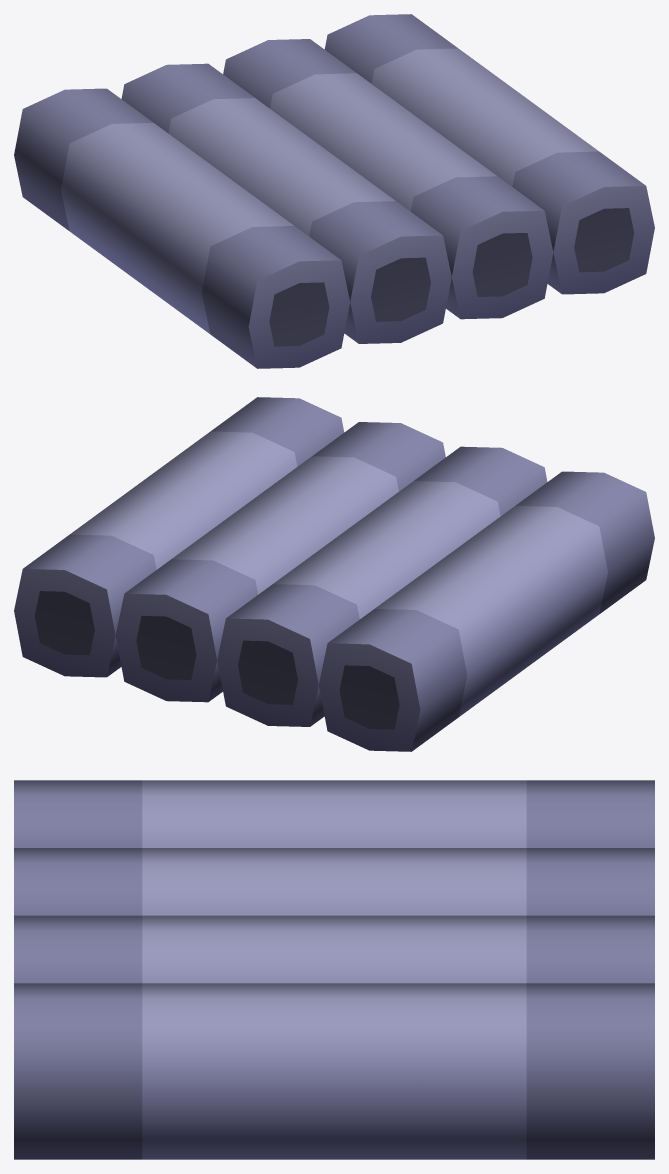
The model's file is conveyor-bars-stripe.fbx.
3 views of the same model, one above another, from view 1: azimuth 30°, elevation 25°; view 2: azimuth 150°, elevation 25°; view 3: azimuth 270°, elevation 25° (orthographic). The views are drawn at different scales.
Parts seen in each view (by area): view 1: conveyor-bars-stripe; view 2: conveyor-bars-stripe; view 3: conveyor-bars-stripe.
Part boxes in pixels (x1=…): conveyor-bars-stripe: x1=14, y1=14, x2=654, y2=368; conveyor-bars-stripe: x1=14, y1=397, x2=654, y2=751; conveyor-bars-stripe: x1=14, y1=780, x2=654, y2=1159.
Size of the model in its own units: 100 by 25 by 100.
Materials: 1 (1 with a texture image).
